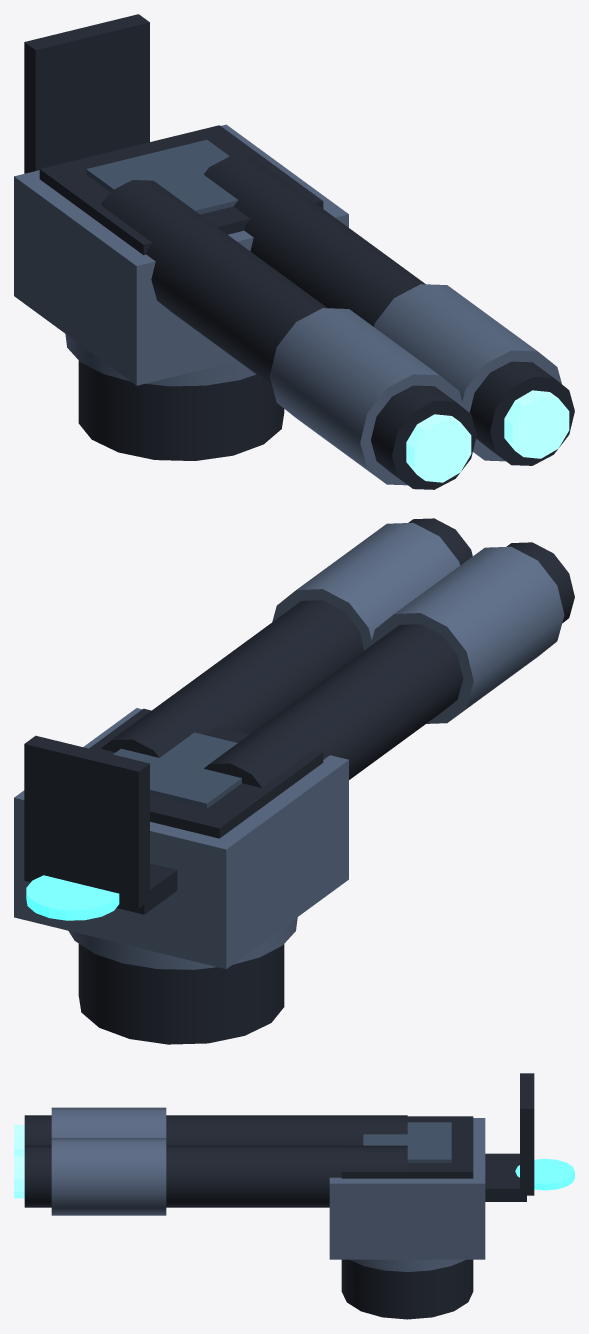
Rendered from mod_canon_pesado.fbx.
The picture shows the model from 3 angles, top to bottom: view 1: azimuth 30°, elevation 25°; view 2: azimuth 150°, elevation 25°; view 3: azimuth 270°, elevation 25°; orthographic projection. The views are drawn at different scales.
Parts seen in each view (by area): view 1: Canon_pesado, Canon_pesado_Neon; view 2: Canon_pesado, Canon_pesado_Marca; view 3: Canon_pesado, Canon_pesado_Marca, Canon_pesado_Neon.
Part boxes in pixels (bbox=[...]): Canon_pesado: bbox=[14, 14, 574, 489]; Canon_pesado_Neon: bbox=[406, 390, 569, 482]; Canon_pesado: bbox=[14, 518, 574, 1044]; Canon_pesado_Marca: bbox=[26, 875, 119, 920]; Canon_pesado: bbox=[24, 1073, 534, 1319]; Canon_pesado_Marca: bbox=[515, 1158, 574, 1190]; Canon_pesado_Neon: bbox=[14, 1125, 24, 1198].
Bounding box in the file's own units: 0.364 × 0.5432 × 1.31.
